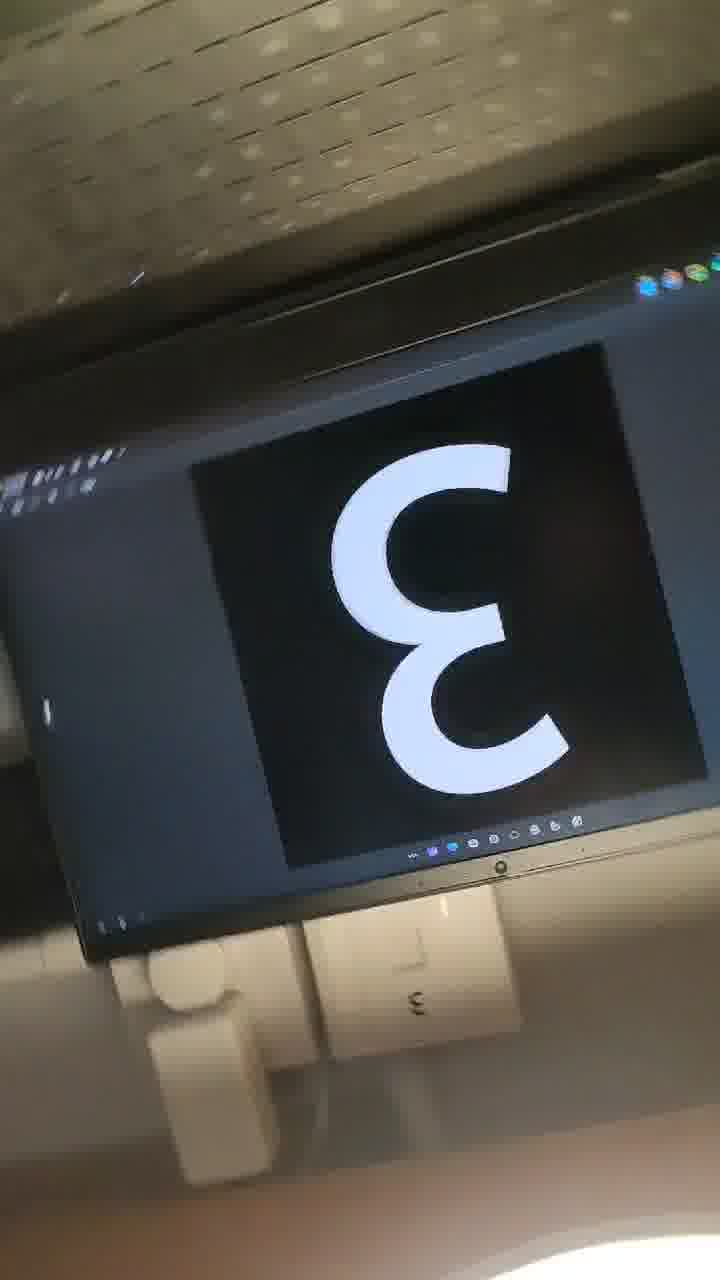three: (257, 394, 631, 852)
